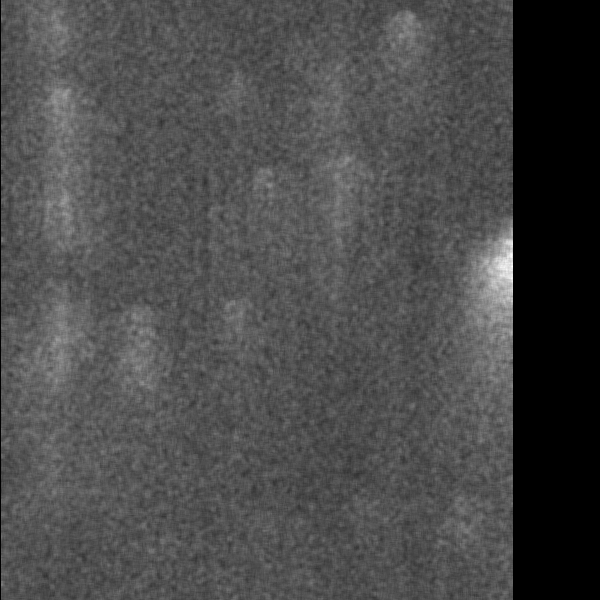spark: (295, 144, 352, 202), (126, 292, 155, 395), (388, 12, 422, 79), (40, 328, 80, 376), (40, 5, 82, 49), (224, 295, 251, 360), (47, 189, 77, 225), (255, 170, 281, 200)
